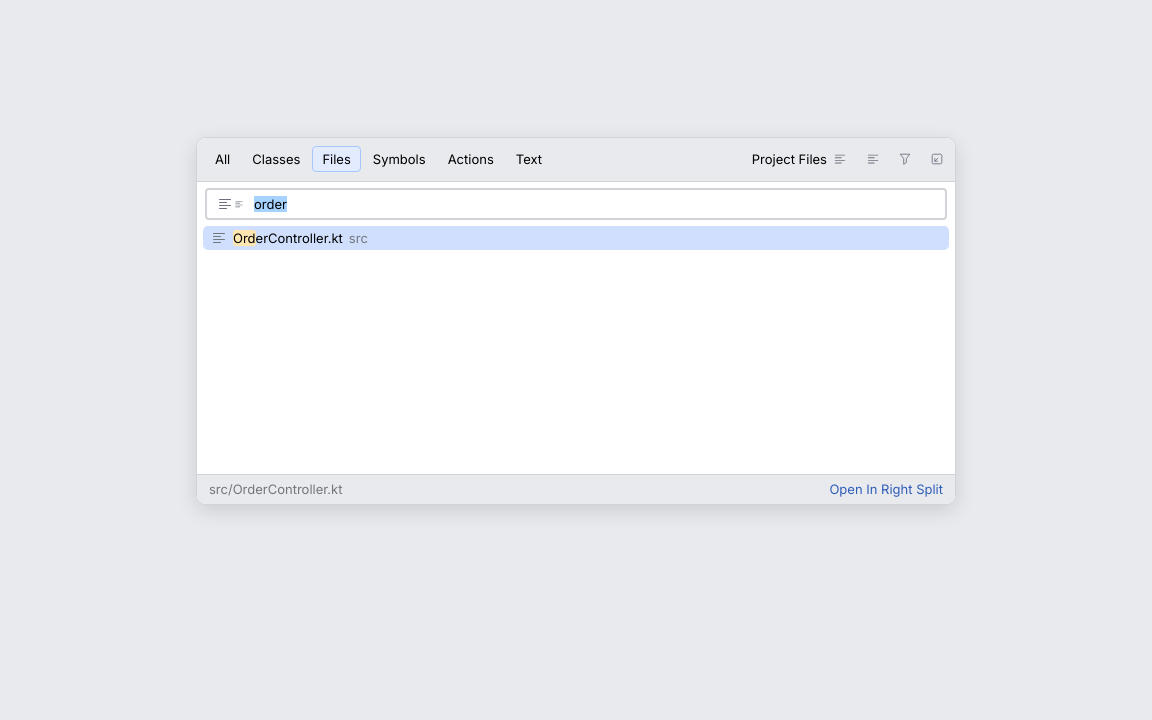
Test case: Search Everywhere dialog › filters Files by file type from the funnel, remembering the choice
Check: the element with id "se-results" shows "OrderController", box left=203, top=226, right=949, bottom=250
Click the button named "Filter".
click(905, 159)  # box left=895, top=149, right=915, bottom=169
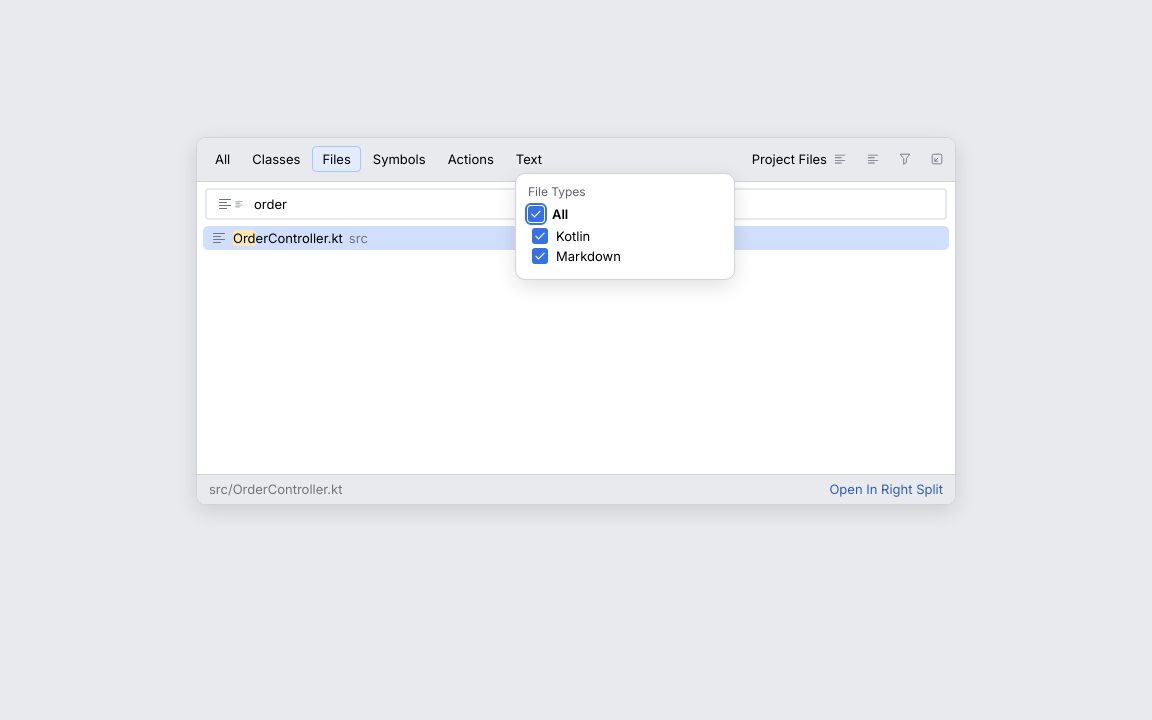
Click the checkbox labelled "Kotlin".
click(561, 236)  # box left=532, top=228, right=590, bottom=244
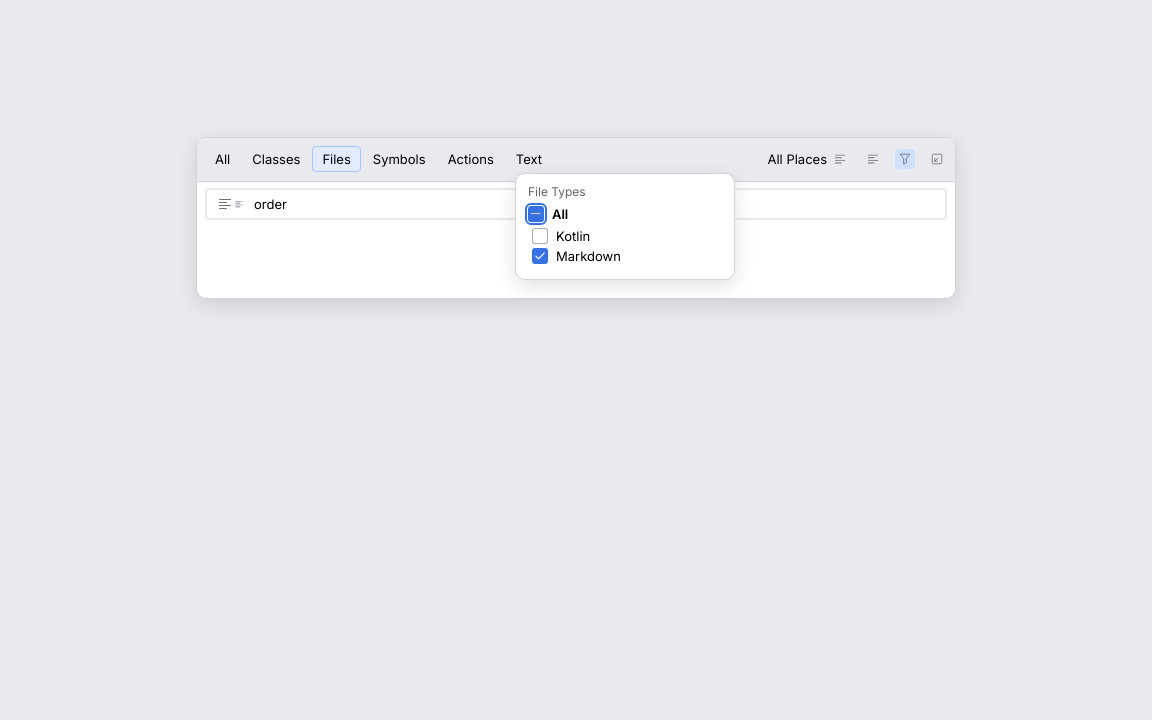
Check: the option with id "se-results" no longer shows "OrderController"
